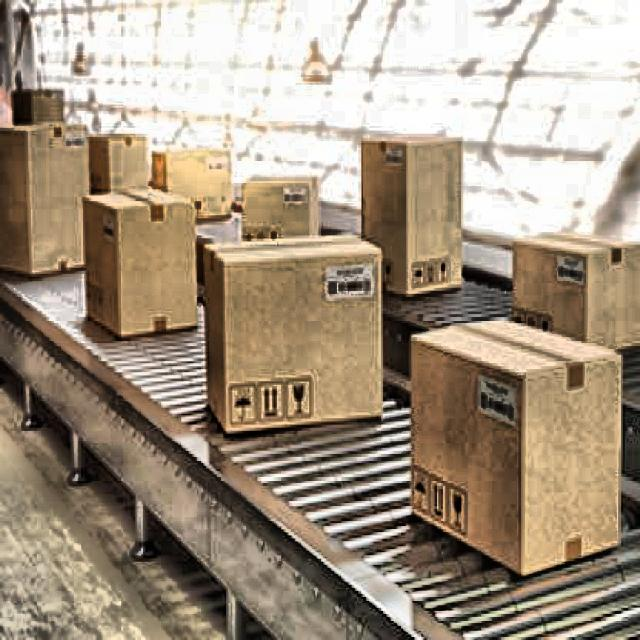Cardbox: (403, 331, 640, 578), (211, 211, 387, 441), (355, 133, 484, 304), (504, 214, 640, 369), (0, 114, 114, 290), (79, 183, 191, 349), (226, 168, 332, 308), (91, 130, 160, 235), (155, 140, 238, 222)
